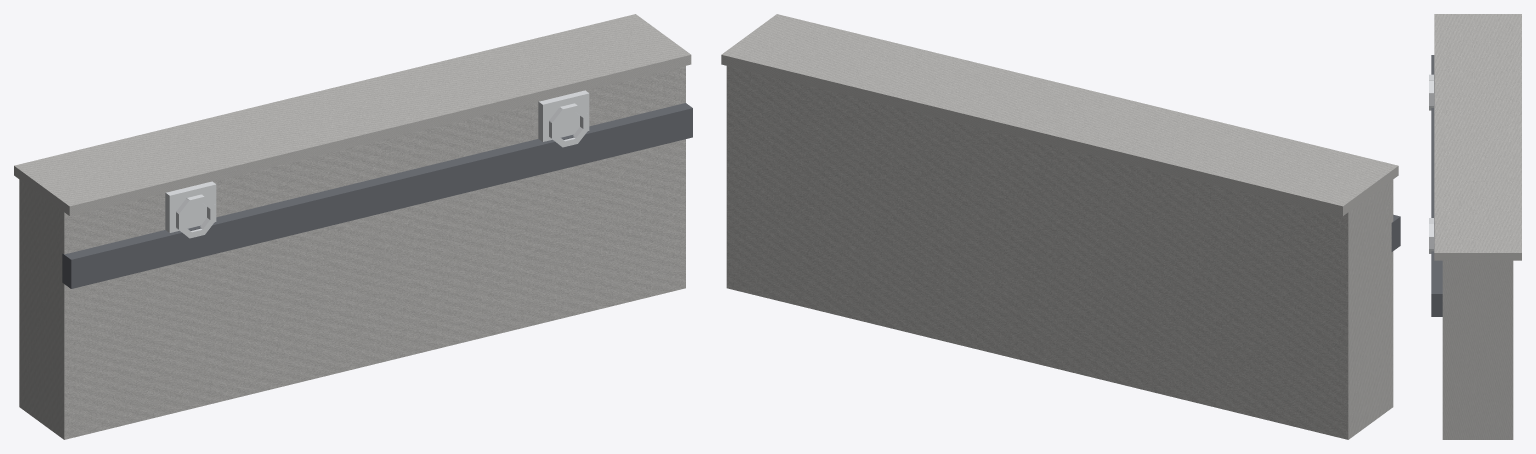
File: marina-and-yacht-club-marina-and-yacht-club-harbour-wa-44c6ce10__38281.glb
The picture shows the model from 3 angles, left to right: view 1: azimuth 30°, elevation 25°; view 2: azimuth 150°, elevation 25°; view 3: azimuth 270°, elevation 25°; orthographic projection. The views are drawn at different scales.
Visible parts, largest first — view 1: marina-and-yacht-club-harbour-wall-module; view 2: marina-and-yacht-club-harbour-wall-module; view 3: marina-and-yacht-club-harbour-wall-module.
Part boxes in pixels (x1,y1,x2,y2): marina-and-yacht-club-harbour-wall-module: (14, 14, 692, 439); marina-and-yacht-club-harbour-wall-module: (721, 14, 1400, 439); marina-and-yacht-club-harbour-wall-module: (1429, 14, 1521, 439).
Bounding box in the file's own units: 4 × 1.46 × 0.6575.
3 materials, 1 textured.
